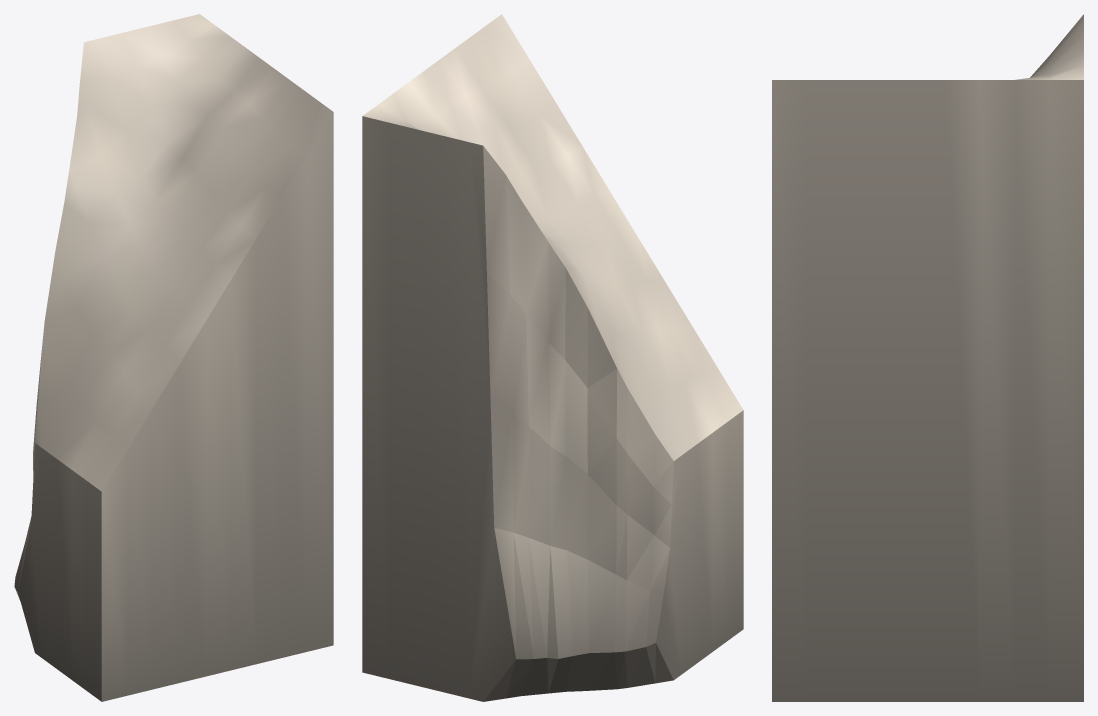
File: SM_VKI_Rock_Cave_CFFO_A.fbx
3 renders of one model, left to right at view 1: azimuth 30°, elevation 25°; view 2: azimuth 150°, elevation 25°; view 3: azimuth 270°, elevation 25°, orthographic. The views are drawn at different scales.
Parts seen in each view (by area): view 1: SM_VKI_Rock_Cave_CFFO_A.001; view 2: SM_VKI_Rock_Cave_CFFO_A.001; view 3: SM_VKI_Rock_Cave_CFFO_A.001.
Boxes of the visible parts, left/top/right/bottom form: SM_VKI_Rock_Cave_CFFO_A.001: left=14, top=14, right=333, bottom=701; SM_VKI_Rock_Cave_CFFO_A.001: left=362, top=14, right=743, bottom=701; SM_VKI_Rock_Cave_CFFO_A.001: left=772, top=14, right=1083, bottom=701.
Size of the model in its own units: 1.5 by 3.3 by 1.5.
